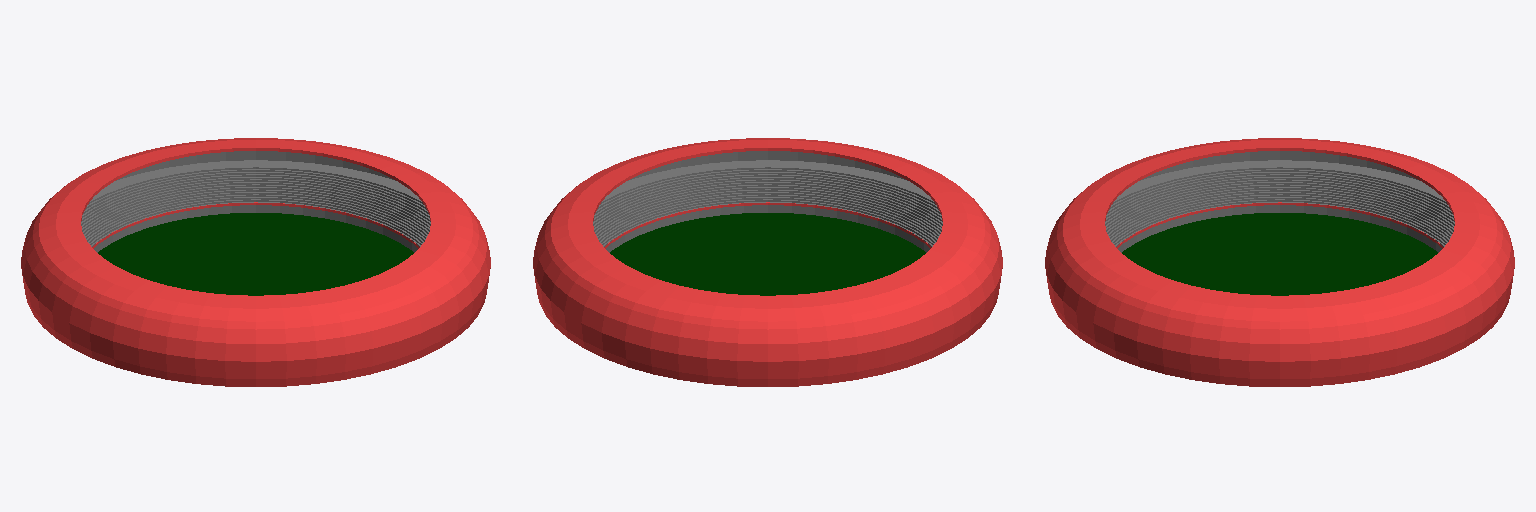
3 renders of one model, left to right at view 1: azimuth 30°, elevation 25°; view 2: azimuth 150°, elevation 25°; view 3: azimuth 270°, elevation 25°, orthographic.
Parts seen in each view (by area): view 1: Torus, Cylinder_Cylinder.002; view 2: Torus, Cylinder_Cylinder.002; view 3: Torus, Cylinder_Cylinder.002.
Part boxes in pixels (bbox=[...]): Torus: bbox=[21, 138, 490, 386]; Cylinder_Cylinder.002: bbox=[98, 213, 413, 295]; Torus: bbox=[533, 138, 1002, 386]; Cylinder_Cylinder.002: bbox=[610, 213, 925, 295]; Torus: bbox=[1045, 138, 1514, 386]; Cylinder_Cylinder.002: bbox=[1122, 213, 1437, 295].
Bounding box in the file's own units: 12.69 × 2.04 × 12.69.
Materials: 2 (1 with a texture image).